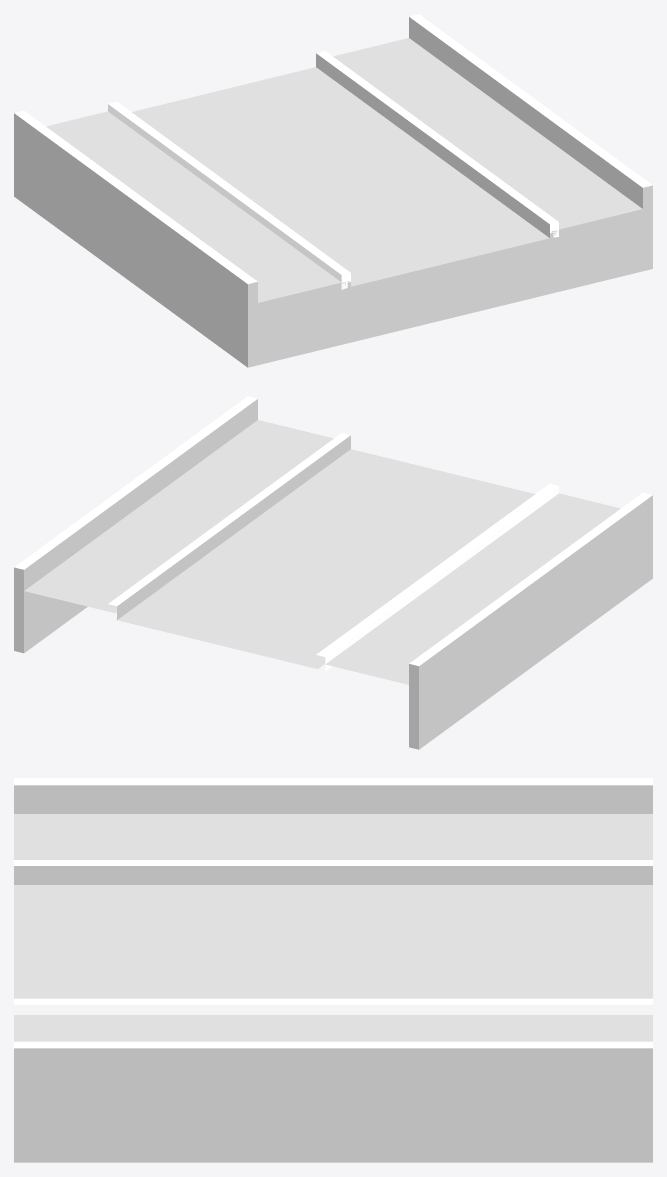
Rendered from port_tile_1x1_6.glb.
The picture shows the model from 3 angles, top to bottom: view 1: azimuth 30°, elevation 25°; view 2: azimuth 150°, elevation 25°; view 3: azimuth 270°, elevation 25°; orthographic projection. The views are drawn at different scales.
Visible parts, largest first — view 1: port_tile_1x1_6(Clone); view 2: port_tile_1x1_6(Clone); view 3: port_tile_1x1_6(Clone).
Boxes of the visible parts, x1,y1,x2,y2 form: port_tile_1x1_6(Clone): [14, 14, 652, 367]; port_tile_1x1_6(Clone): [14, 396, 652, 749]; port_tile_1x1_6(Clone): [14, 778, 652, 1162].
Size of the model in its own units: 8 by 1.58 by 8.
Materials: 1 (1 with a texture image).
